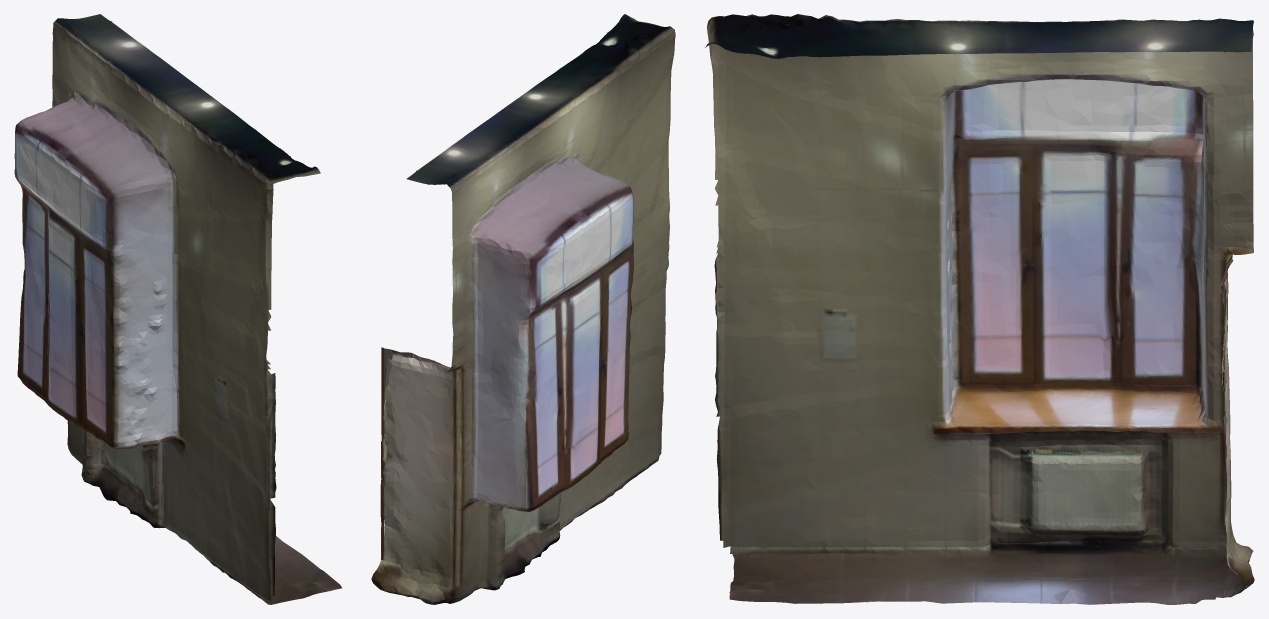
3 renders of one model, left to right at view 1: azimuth 30°, elevation 25°; view 2: azimuth 150°, elevation 25°; view 3: azimuth 270°, elevation 25°, orthographic. The views are drawn at different scales.
Parts seen in each view (by area): view 1: Mesh_0.002, Mesh_0.003, Mesh_0.001; view 2: Mesh_0.002, Mesh_0.003, Mesh_0.001; view 3: Mesh_0.002, Mesh_0.003, Mesh_0.001, Mesh_0.
Boxes of the visible parts, x1,y1,x2,y2 form: Mesh_0.002: (52,14,320,603); Mesh_0.003: (14,90,175,449); Mesh_0.001: (67,439,341,604); Mesh_0.002: (371,14,675,604); Mesh_0.003: (471,154,633,511); Mesh_0.001: (426,510,587,603); Mesh_0.002: (705,14,1254,597); Mesh_0.003: (947,79,1208,500); Mesh_0.001: (729,510,1238,604); Mesh_0: (714,18,1253,565).
Bounding box in the file's own units: 1.39 × 3.68 × 3.39.
1 material, 1 textured.
